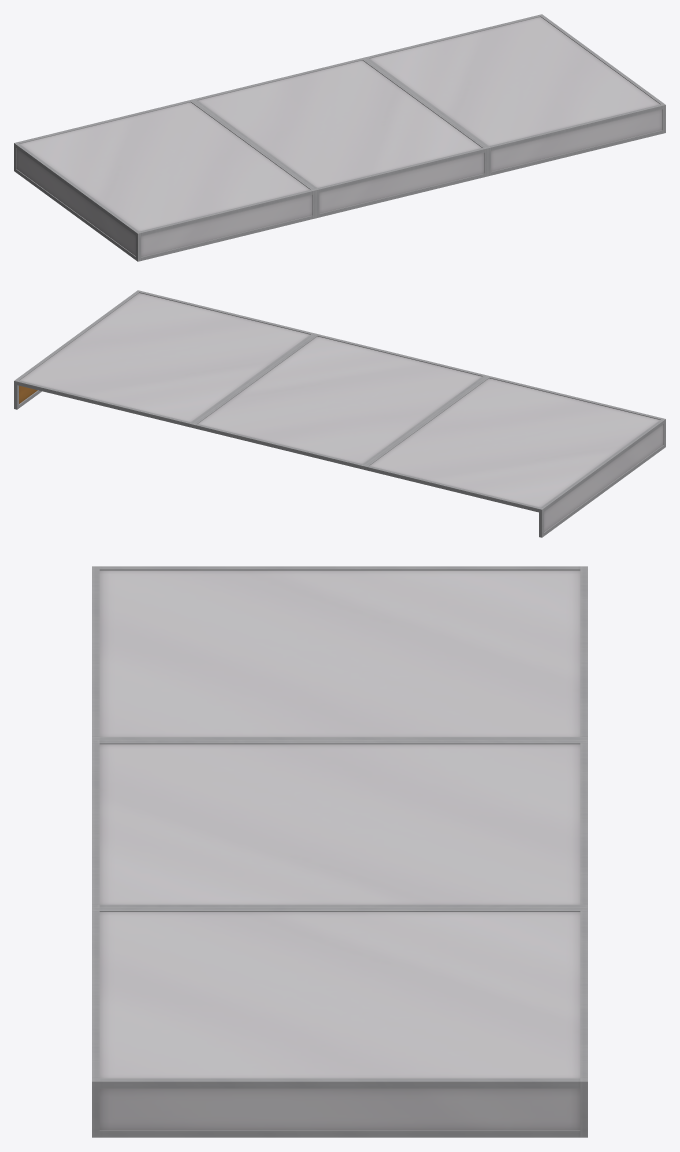
File: jsf_2P_s02_c04_t01_DX.fbx
3 renders of one model, top to bottom at view 1: azimuth 30°, elevation 25°; view 2: azimuth 150°, elevation 25°; view 3: azimuth 270°, elevation 25°, orthographic. The views are drawn at different scales.
Parts seen in each view (by area): view 1: jsf_2P_s02_c04_t01_DX; view 2: jsf_2P_s02_c04_t01_DX; view 3: jsf_2P_s02_c04_t01_DX.
Part boxes in pixels (x1,y1,x2,y2): jsf_2P_s02_c04_t01_DX: (14,14,665,261); jsf_2P_s02_c04_t01_DX: (14,290,665,537); jsf_2P_s02_c04_t01_DX: (92,566,587,1137).
Bounding box in the file's own units: 246 × 12.51 × 100.
